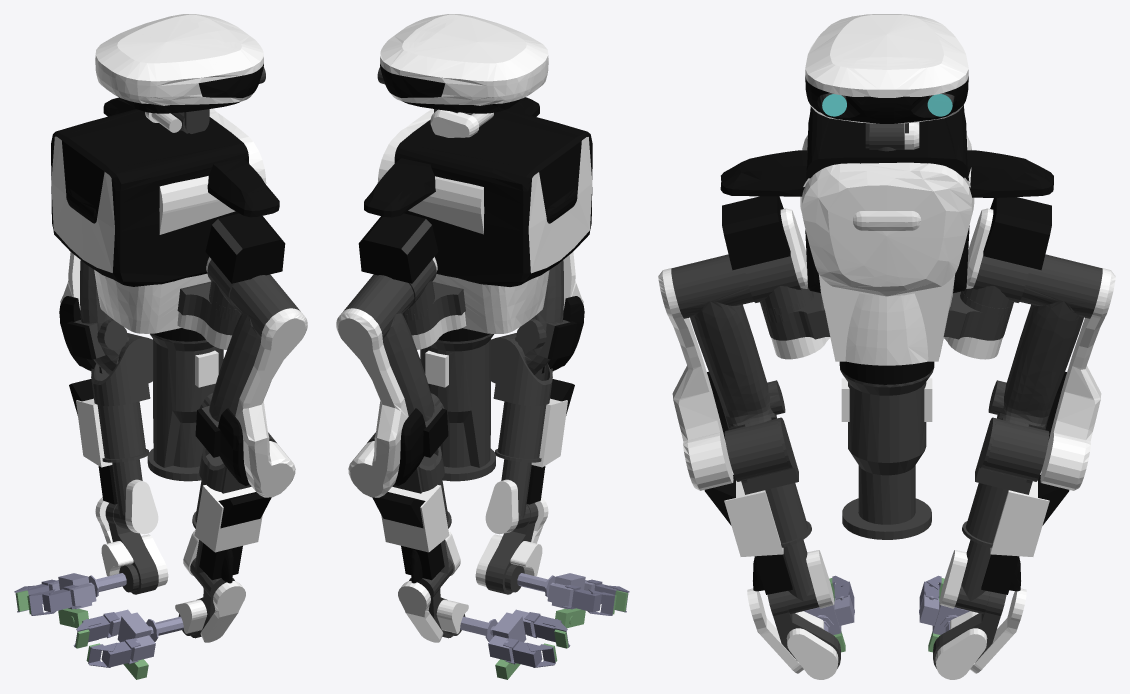
File: hironx34.dae
3 views of the same model, side by side, from view 1: azimuth 30°, elevation 25°; view 2: azimuth 150°, elevation 25°; view 3: azimuth 270°, elevation 25° (orthographic). The views are drawn at different scales.
Parts seen in each view (by area): view 1: CHEST_JOINT0_Link (×9), HEAD_JOINT1_Link (×3), RARM_JOINT1_Link (×3), WAIST_Link (×3), LARM_JOINT2_Link (×4), LARM_JOINT1_Link (×3), RARM_JOINT0_Link (×3), RARM_JOINT2_Link (×3), LARM_JOINT3_Link (×3), LARM_JOINT4_Link (×3), RARM_JOINT4_Link (×3), RARM_JOINT5_Link (+5 smaller); view 2: CHEST_JOINT0_Link (×9), LARM_JOINT1_Link (×3), HEAD_JOINT1_Link (×2), WAIST_Link (×3), RARM_JOINT2_Link (×4), LARM_JOINT0_Link (×3), RARM_JOINT1_Link (×3), LARM_JOINT2_Link (×3), RARM_JOINT3_Link (×3), RARM_JOINT4_Link (×3), LARM_JOINT4_Link (×3), LARM_JOINT5_Link (+6 smaller); view 3: CHEST_JOINT0_Link (×9), RARM_JOINT1_Link (×3), LARM_JOINT1_Link (×3), HEAD_JOINT1_Link (×2), WAIST_Link (×3), RARM_JOINT0_Link (×4), LARM_JOINT0_Link (×4), LARM_JOINT2_Link (×3), RARM_JOINT2_Link (×3), RARM_JOINT4_Link (×3), LARM_JOINT4_Link (×3), RARM_JOINT3_Link (×3) (+4 smaller).
Part boxes in pixels (<box>): CHEST_JOINT0_Link (×9): <box>51,97,279,349</box>; HEAD_JOINT1_Link (×3): <box>95,14,263,133</box>; RARM_JOINT1_Link (×3): <box>195,274,307,497</box>; WAIST_Link (×3): <box>147,333,223,481</box>; LARM_JOINT2_Link (×4): <box>69,337,152,467</box>; LARM_JOINT1_Link (×3): <box>59,252,138,374</box>; RARM_JOINT0_Link (×3): <box>205,213,285,320</box>; RARM_JOINT2_Link (×3): <box>194,446,271,552</box>; LARM_JOINT3_Link (×3): <box>98,459,158,534</box>; LARM_JOINT4_Link (×3): <box>101,503,168,594</box>; RARM_JOINT4_Link (×3): <box>175,575,245,642</box>; RARM_JOINT5_Link: <box>109,609,183,661</box>; CHEST_JOINT0_Link (×9): <box>364,97,592,349</box>; LARM_JOINT1_Link (×3): <box>336,274,448,497</box>; HEAD_JOINT1_Link (×2): <box>380,14,548,113</box>; WAIST_Link (×3): <box>420,334,495,481</box>; RARM_JOINT2_Link (×4): <box>491,337,574,467</box>; LARM_JOINT0_Link (×3): <box>358,213,438,320</box>; RARM_JOINT1_Link (×3): <box>505,252,584,374</box>; LARM_JOINT2_Link (×3): <box>372,446,449,552</box>; RARM_JOINT3_Link (×3): <box>485,459,545,534</box>; RARM_JOINT4_Link (×3): <box>475,503,542,594</box>; LARM_JOINT4_Link (×3): <box>398,575,468,642</box>; LARM_JOINT5_Link: <box>460,609,534,661</box>; CHEST_JOINT0_Link (×9): <box>720,105,1053,384</box>; RARM_JOINT1_Link (×3): <box>658,254,790,490</box>; LARM_JOINT1_Link (×3): <box>983,254,1115,490</box>; HEAD_JOINT1_Link (×2): <box>805,14,968,123</box>; WAIST_Link (×3): <box>840,366,934,539</box>; RARM_JOINT0_Link (×4): <box>722,196,812,322</box>; LARM_JOINT0_Link (×4): <box>962,197,1051,322</box>; LARM_JOINT2_Link (×3): <box>966,417,1049,556</box>; RARM_JOINT2_Link (×3): <box>724,417,807,556</box>; RARM_JOINT4_Link (×3): <box>747,588,840,679</box>; LARM_JOINT4_Link (×3): <box>933,588,1026,679</box>; RARM_JOINT3_Link (×3): <box>754,540,834,613</box>.
Size of the model in its own units: 0.3307 by 0.6096 by 0.9692.
